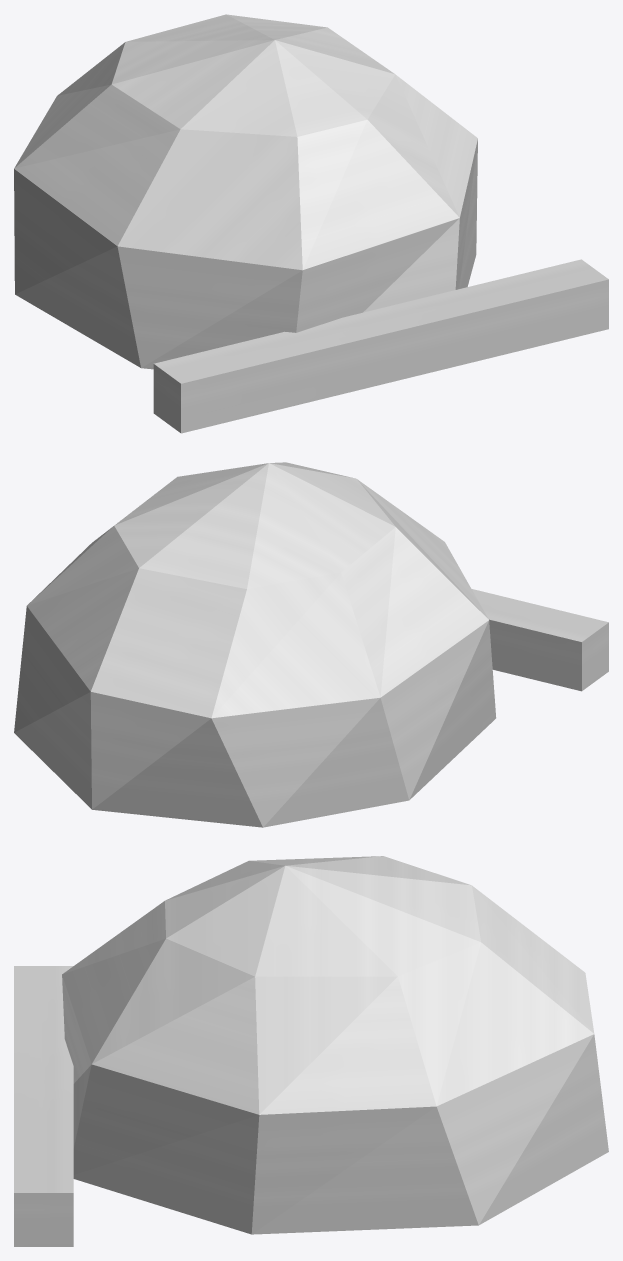
Rendered from helmet.obj.
3 renders of one model, top to bottom at view 1: azimuth 30°, elevation 25°; view 2: azimuth 150°, elevation 25°; view 3: azimuth 270°, elevation 25°, orthographic. The views are drawn at different scales.
Visible parts, largest first — view 1: helmet; view 2: helmet; view 3: helmet.
Boxes of the visible parts, x1,y1,x2,y2 form: helmet: [14, 14, 608, 433]; helmet: [14, 462, 608, 827]; helmet: [14, 856, 608, 1246].
Bounding box in the file's own units: 0.36 × 0.2 × 0.399.
